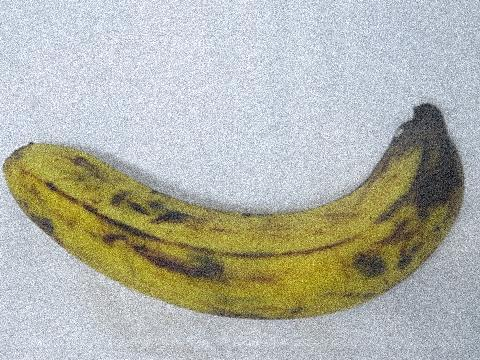overripe: (5, 82, 466, 329)
rotten: (376, 99, 479, 225)
